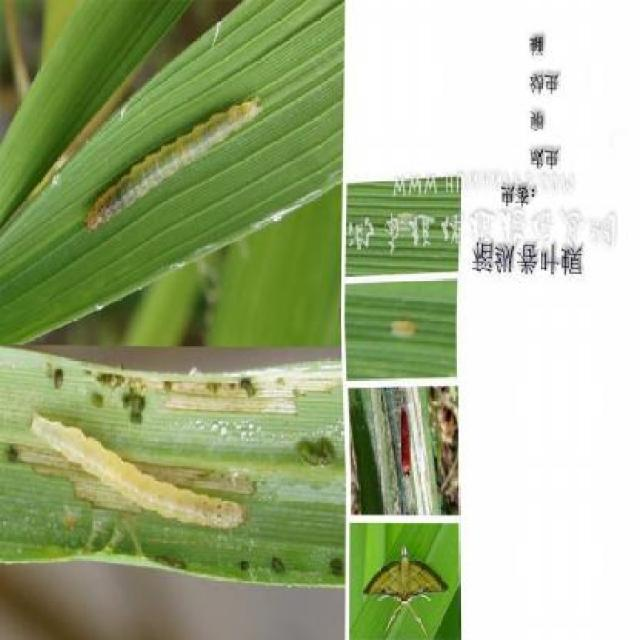leaf-folder: (26, 398, 246, 537), (80, 86, 265, 226), (389, 394, 418, 486), (389, 308, 420, 350)
